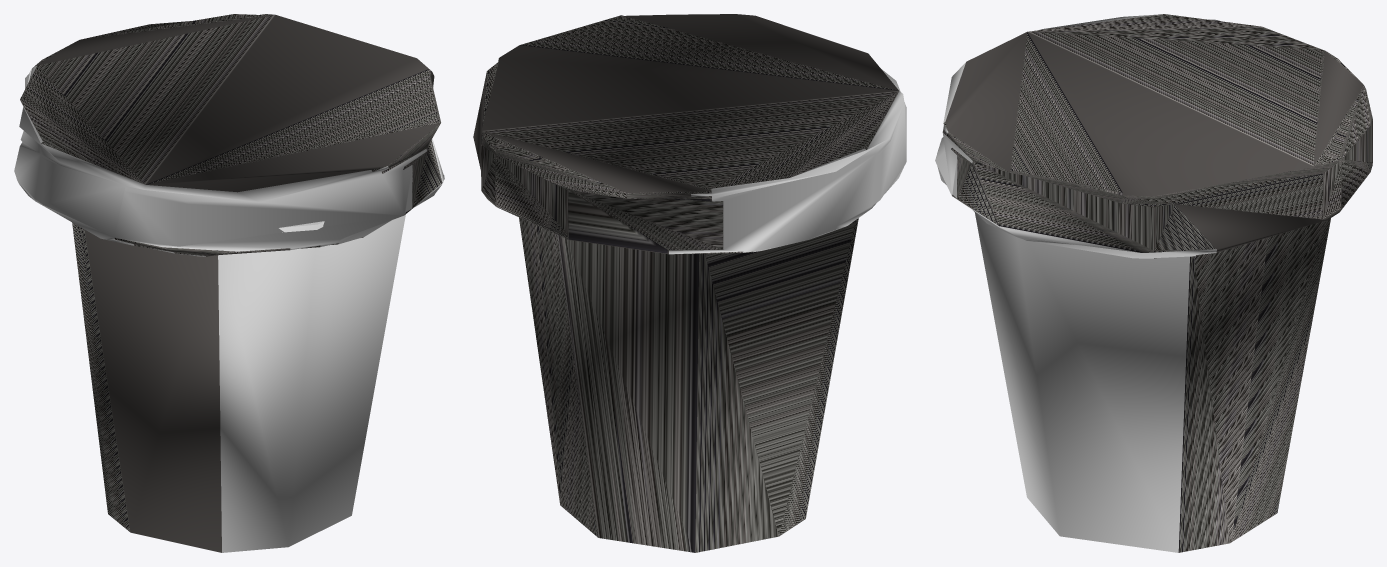
Rendered from botleft_foot.obj.
The picture shows the model from 3 angles, left to right: view 1: azimuth 30°, elevation 25°; view 2: azimuth 150°, elevation 25°; view 3: azimuth 270°, elevation 25°; orthographic projection.
Visible parts, largest first — view 1: botleft_foot_mesh6.003_mesh6-geometry; view 2: botleft_foot_mesh6.003_mesh6-geometry; view 3: botleft_foot_mesh6.003_mesh6-geometry.
Part boxes in pixels (x1,y1,x2,y2): botleft_foot_mesh6.003_mesh6-geometry: (14,14,444,552); botleft_foot_mesh6.003_mesh6-geometry: (473,14,906,552); botleft_foot_mesh6.003_mesh6-geometry: (935,14,1372,552).
Size of the model in its own units: 0.0377 by 0.0377 by 0.0376.
